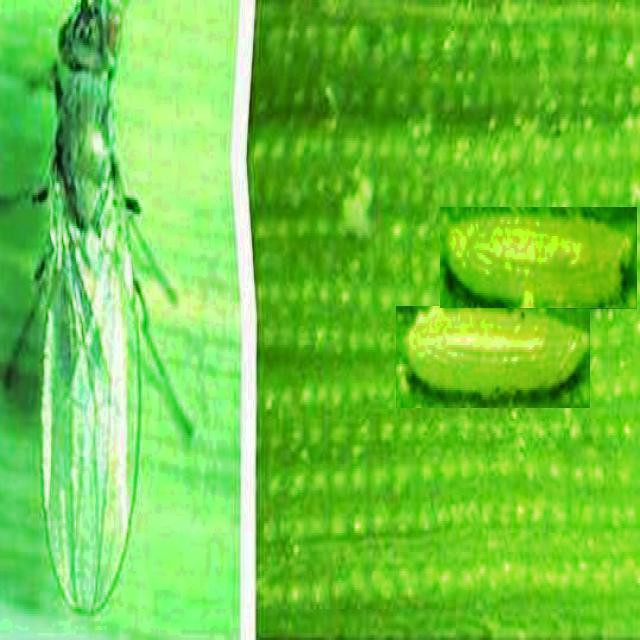whorl-maggot: (440, 208, 637, 310), (396, 306, 590, 408)
